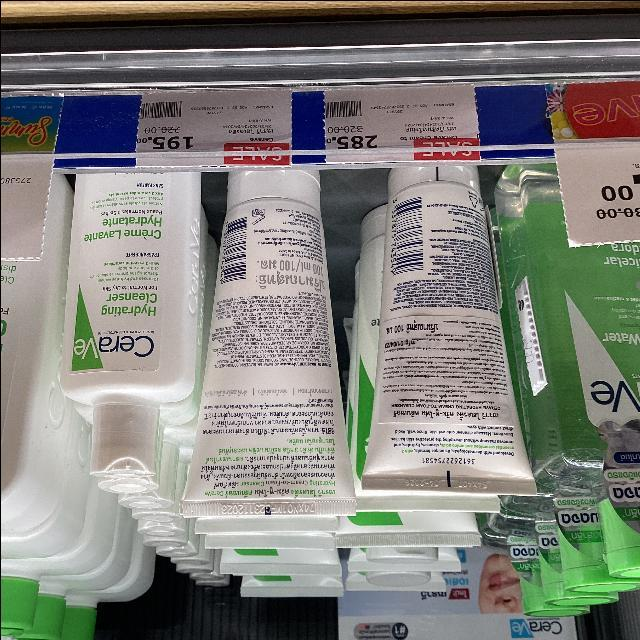Squeeze Tube: (182, 136, 518, 614), (184, 161, 362, 521), (373, 148, 553, 502)
